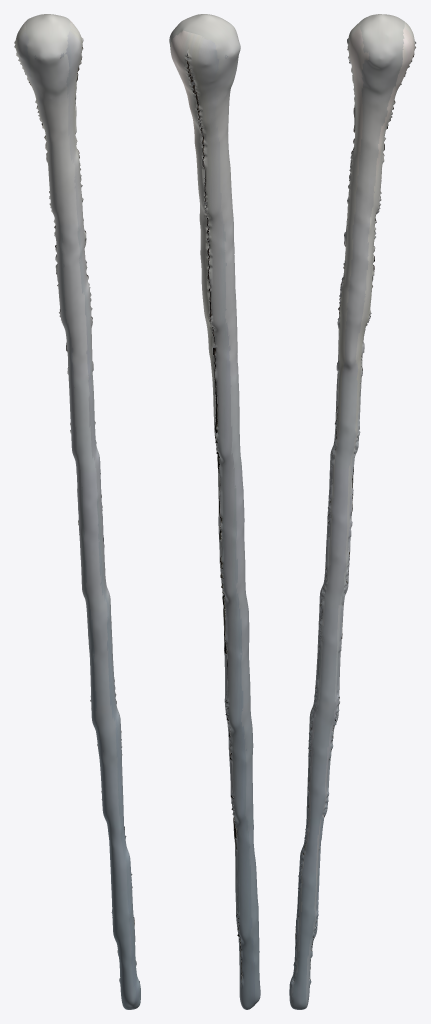
The model's file is kfl-2235.glb.
3 renders of one model, left to right at view 1: azimuth 90°, elevation 25°; view 2: azimuth 150°, elevation 25°; view 3: azimuth 270°, elevation 25°, orthographic. The views are drawn at different scales.
Parts seen in each view (by area): view 1: kfl-2235; view 2: kfl-2235; view 3: kfl-2235.
Boxes of the visible parts, x1=… form: kfl-2235: x1=14, y1=14, x2=140, y2=1009; kfl-2235: x1=169, y1=14, x2=260, y2=1009; kfl-2235: x1=289, y1=14, x2=415, y2=1009.
Size of the model in its own units: 0.0658 by 0.9882 by 0.1145.
3 materials, 3 textured.
